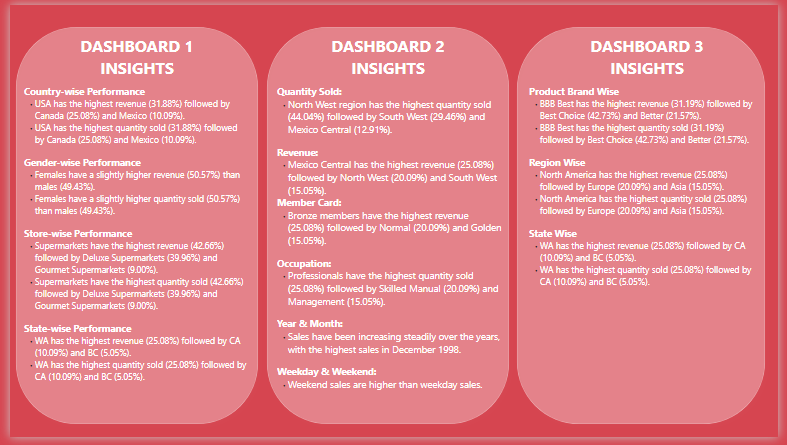

The dashboard page shown, as its layout file describes it:
{"tool":"powerbi","page":{"name":"Insights","canvas":[1280,720],"ordinal":4},"visuals":[{"type":"shape","box":[418.3,26.7,423.3,681.7],"z":0},{"type":"shape","box":[835,26.7,433.3,681.7],"z":1000},{"type":"textbox","box":[440,128.3,385,551.7],"z":2000},{"type":"textbox","box":[860,128.3,385,551.7],"z":3000},{"type":"shape","box":[0,26.7,423.3,681.7],"z":4000},{"type":"textbox","box":[18.3,128.3,385,538.3],"z":5000},{"type":"textbox","box":[46.7,45,330,103.3],"z":6000},{"type":"textbox","box":[465,45,330,103.3],"z":7000},{"type":"textbox","box":[896.7,45,330,103.3],"z":8000}]}

Visuals, with their boxes in screenshot pixels (x1, y1, x2, y2), scaled from the page's 1280x720 canvas onto the 787x445 screenshot:
shape: detection(257, 17, 517, 438)
shape: detection(513, 17, 780, 438)
textbox: detection(271, 79, 507, 420)
textbox: detection(529, 79, 765, 420)
shape: detection(0, 17, 260, 438)
textbox: detection(11, 79, 248, 412)
textbox: detection(29, 28, 232, 92)
textbox: detection(286, 28, 489, 92)
textbox: detection(551, 28, 754, 92)
